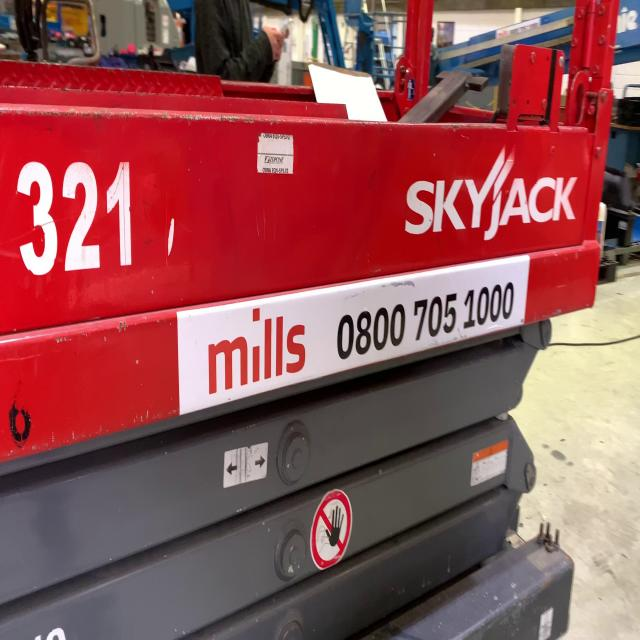Adesivo Longo: (174, 248, 532, 420)
